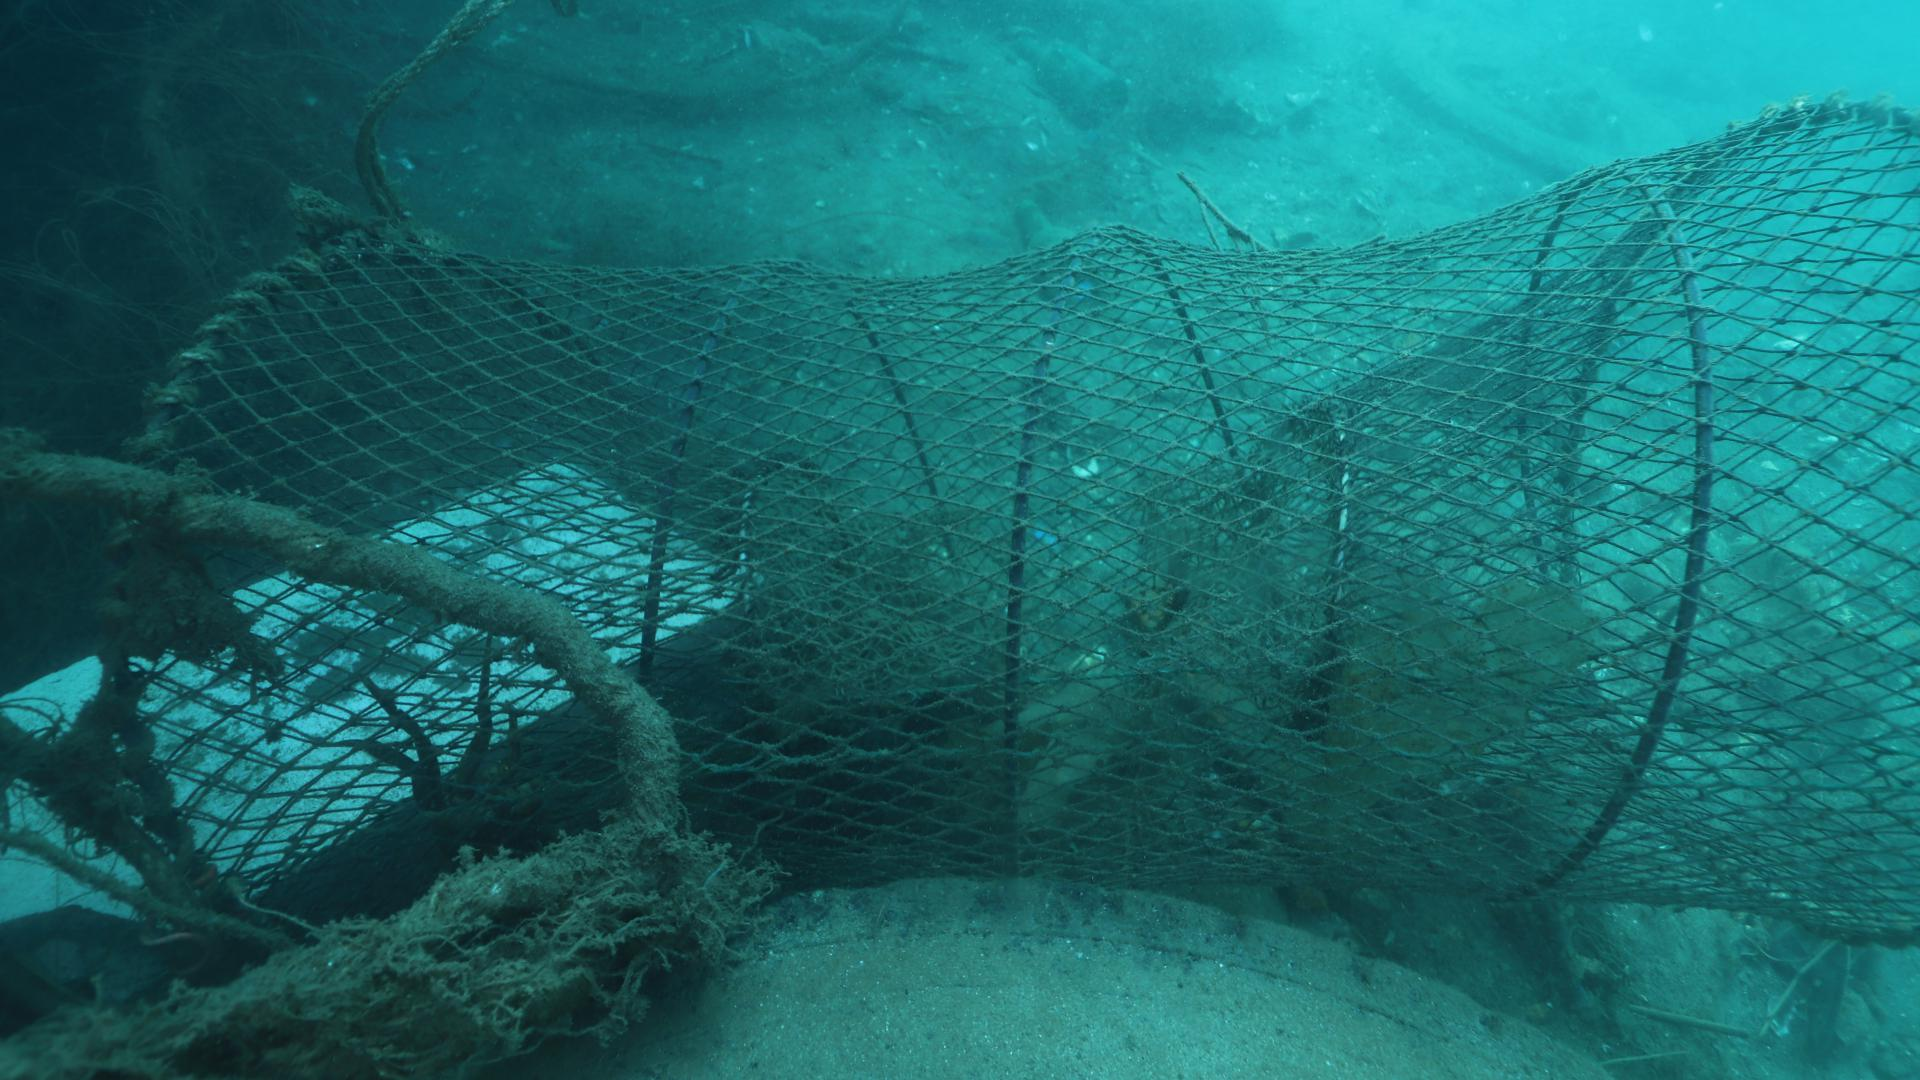bundle of ropes: (344, 0, 510, 233)
spring fish trap: (95, 94, 1920, 949)
